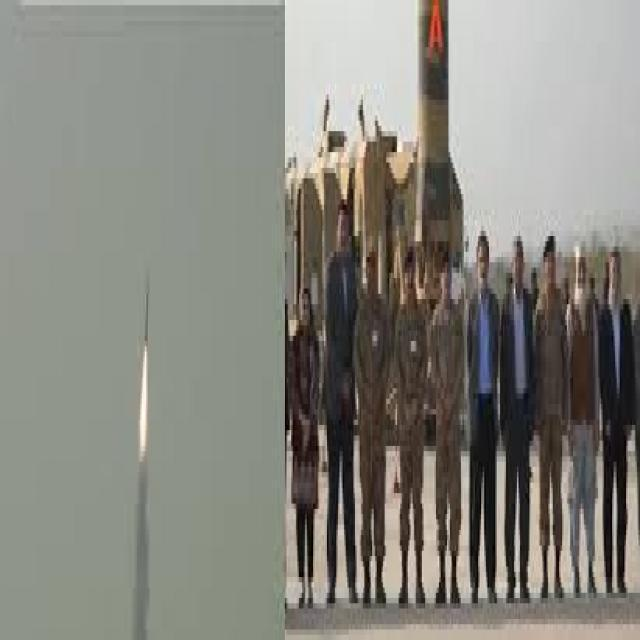missile: (142, 284, 150, 350)
